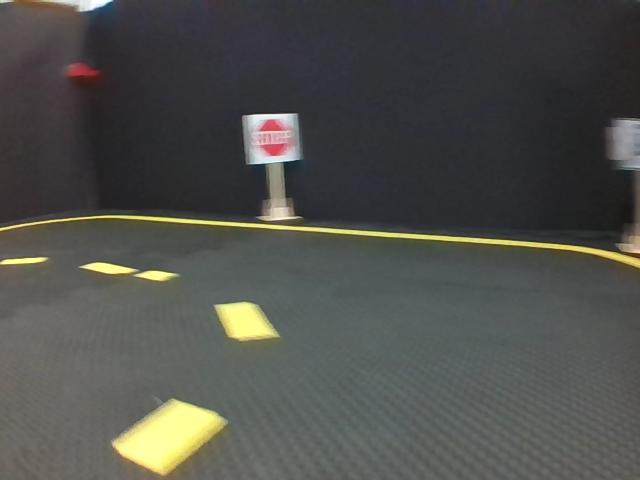no30: (615, 120, 640, 164)
stop: (245, 114, 298, 161)
